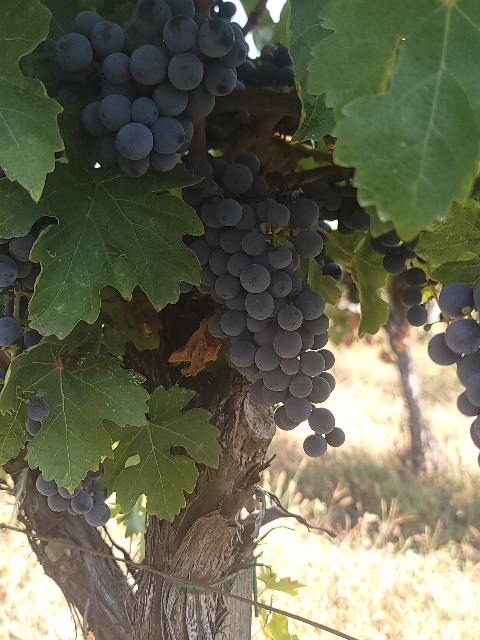grapes: (182, 158, 334, 430), (55, 0, 248, 178)
